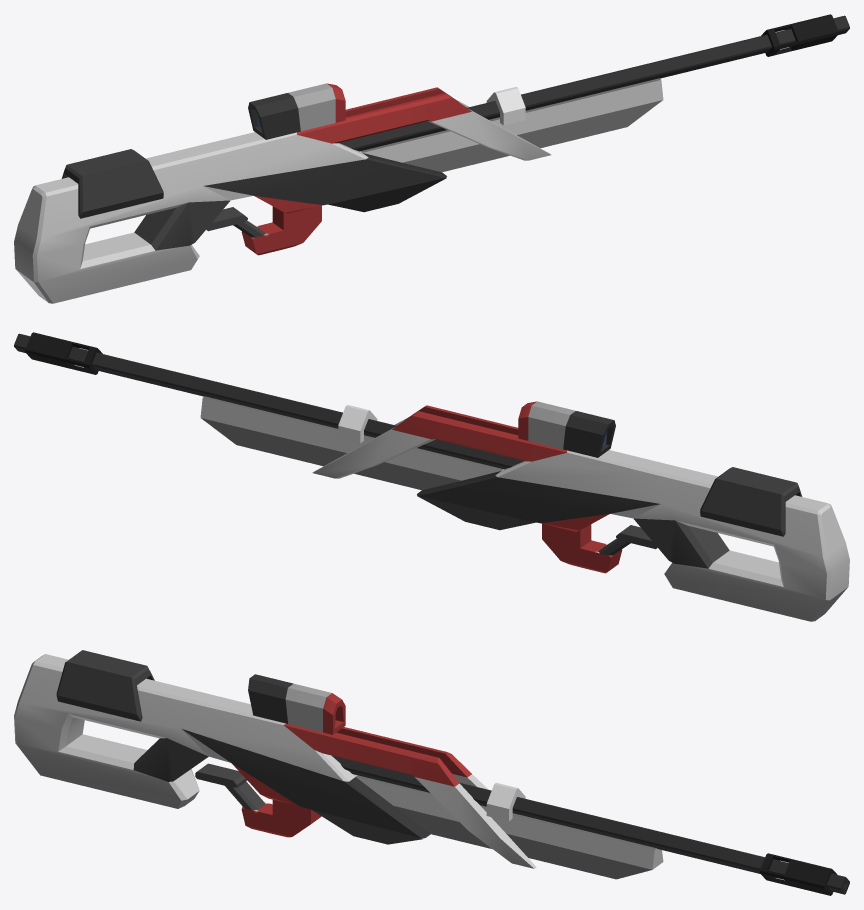
Rendered from juji.fbx.
The picture shows the model from 3 angles, top to bottom: view 1: azimuth 30°, elevation 25°; view 2: azimuth 150°, elevation 25°; view 3: azimuth 330°, elevation 25°; orthographic projection.
Parts seen in each view (by area): view 1: pPipe8; view 2: pPipe8; view 3: pPipe8.
Boxes of the visible parts, left/top/right/bottom form: pPipe8: left=14, top=14, right=849, bottom=303; pPipe8: left=14, top=332, right=849, bottom=621; pPipe8: left=14, top=650, right=849, bottom=895.
Bounding box in the file's own units: 9.06 × 1.57 × 0.4912.
